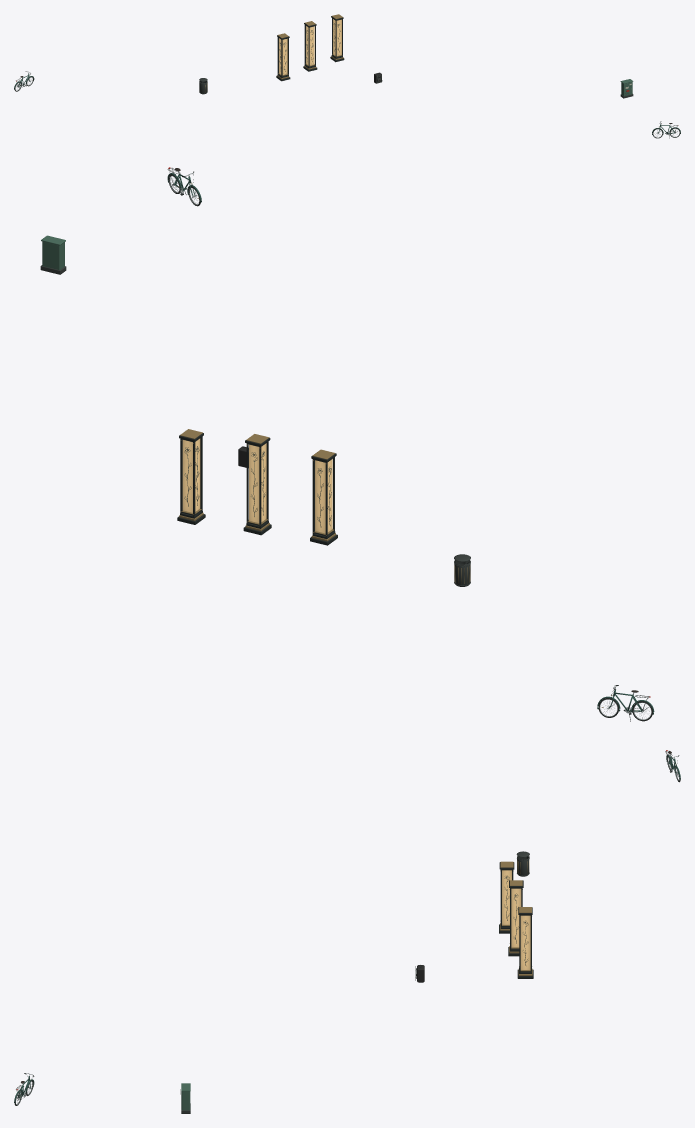
File: props.glb
3 renders of one model, top to bottom at view 1: azimuth 30°, elevation 25°; view 2: azimuth 150°, elevation 25°; view 3: azimuth 270°, elevation 25°, orthographic. The views are drawn at different scales.
Visible parts, largest first — view 1: Authored street props; view 2: Authored street props; view 3: Authored street props.
Boxes of the visible parts, x1,y1,x2,y2 form: Authored street props: (14,14,680,138); Authored street props: (40,167,654,721); Authored street props: (14,750,680,1113).
Bounding box in the file's own units: 35.28 × 3.33 × 28.67.
14 materials, 1 textured.
